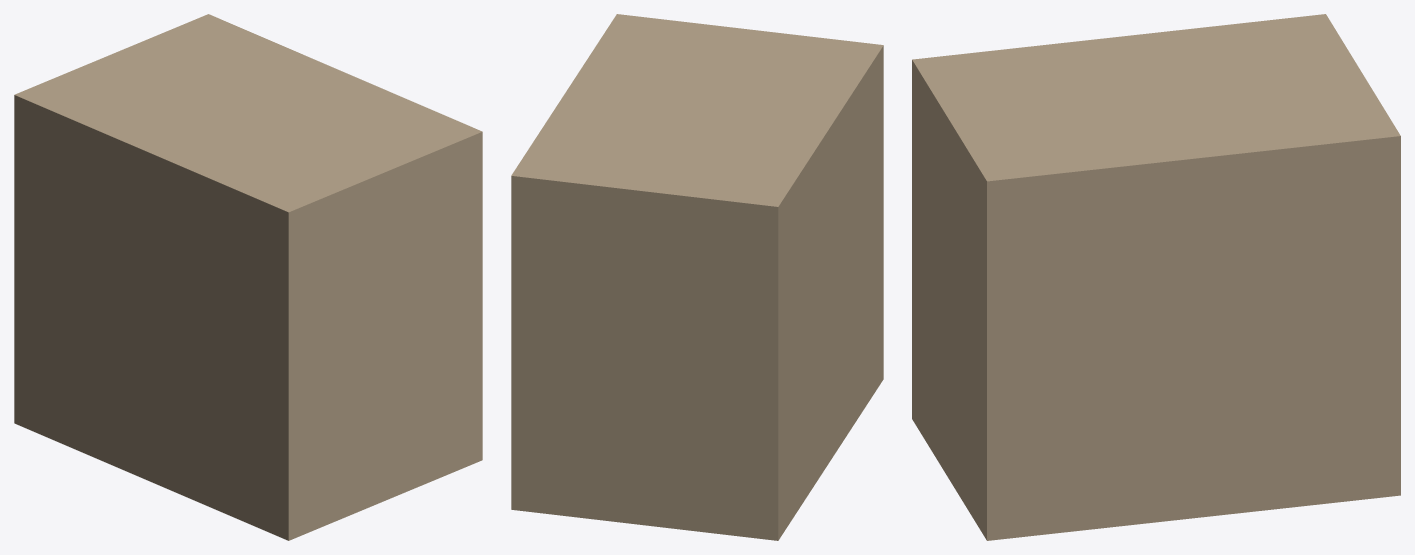
Rendered from bld_107639114.dae.
3 renders of one model, left to right at view 1: azimuth 30°, elevation 25°; view 2: azimuth 150°, elevation 25°; view 3: azimuth 270°, elevation 25°, orthographic. The views are drawn at different scales.
Visible parts, largest first — view 1: bld_107639114; view 2: bld_107639114; view 3: bld_107639114.
Boxes of the visible parts, x1,y1,x2,y2 form: bld_107639114: (14,14,482,540); bld_107639114: (511,14,883,540); bld_107639114: (912,14,1400,540).
Bounding box in the file's own units: 7.99 × 9.86 × 8.
